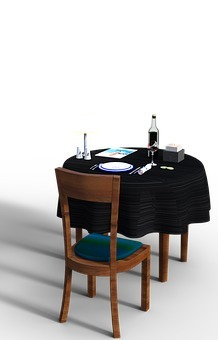bottle: (142, 109, 160, 151)
chair: (42, 161, 162, 336)
diningtable: (52, 140, 210, 286)
